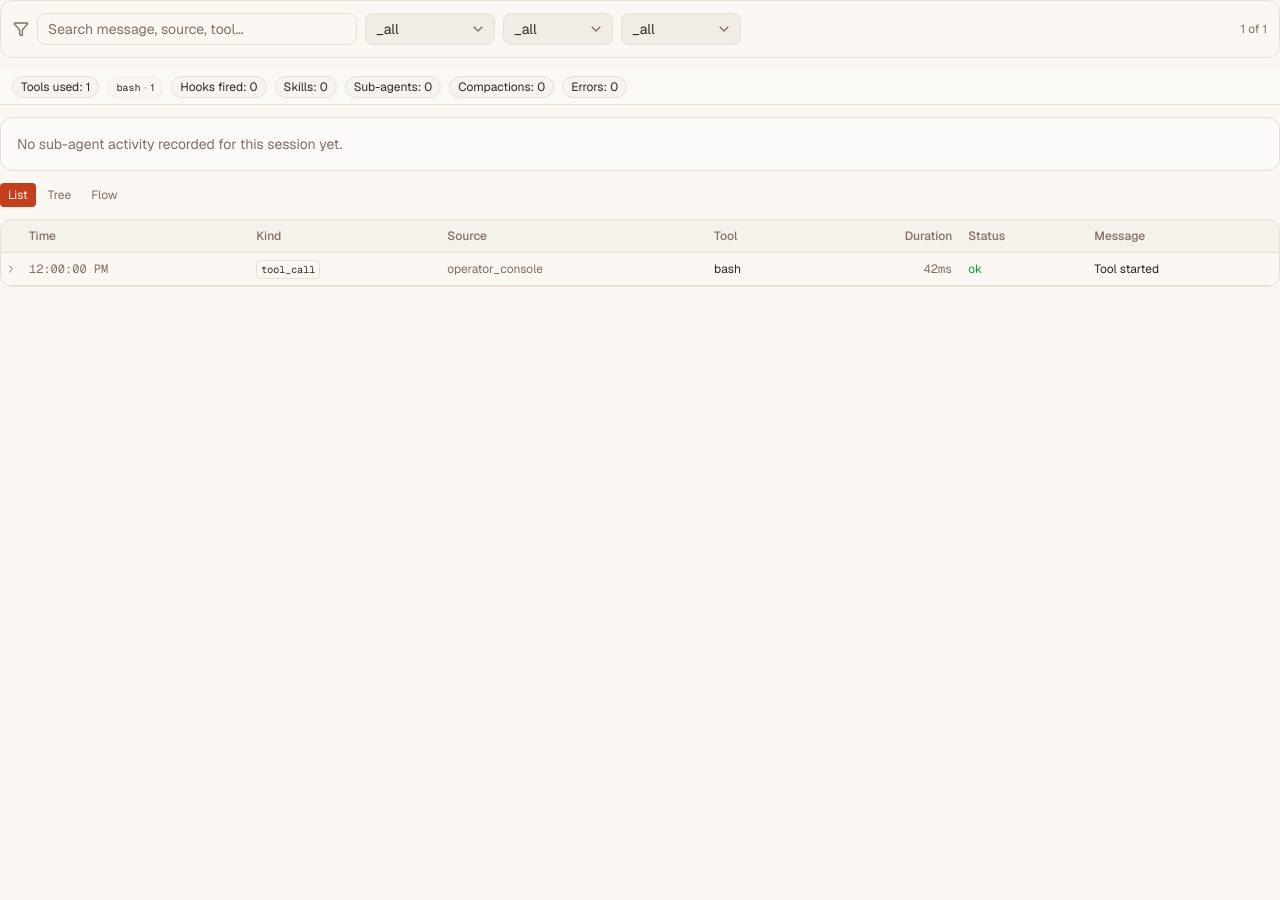
Test: DebugLogTab – detail expansion › clicking a row opens the detail drawer
The image size is (1280, 900).
Click the row named "debug event 0: tool_call from operator_console".
click(640, 269)  # box [1,252,1279,286]
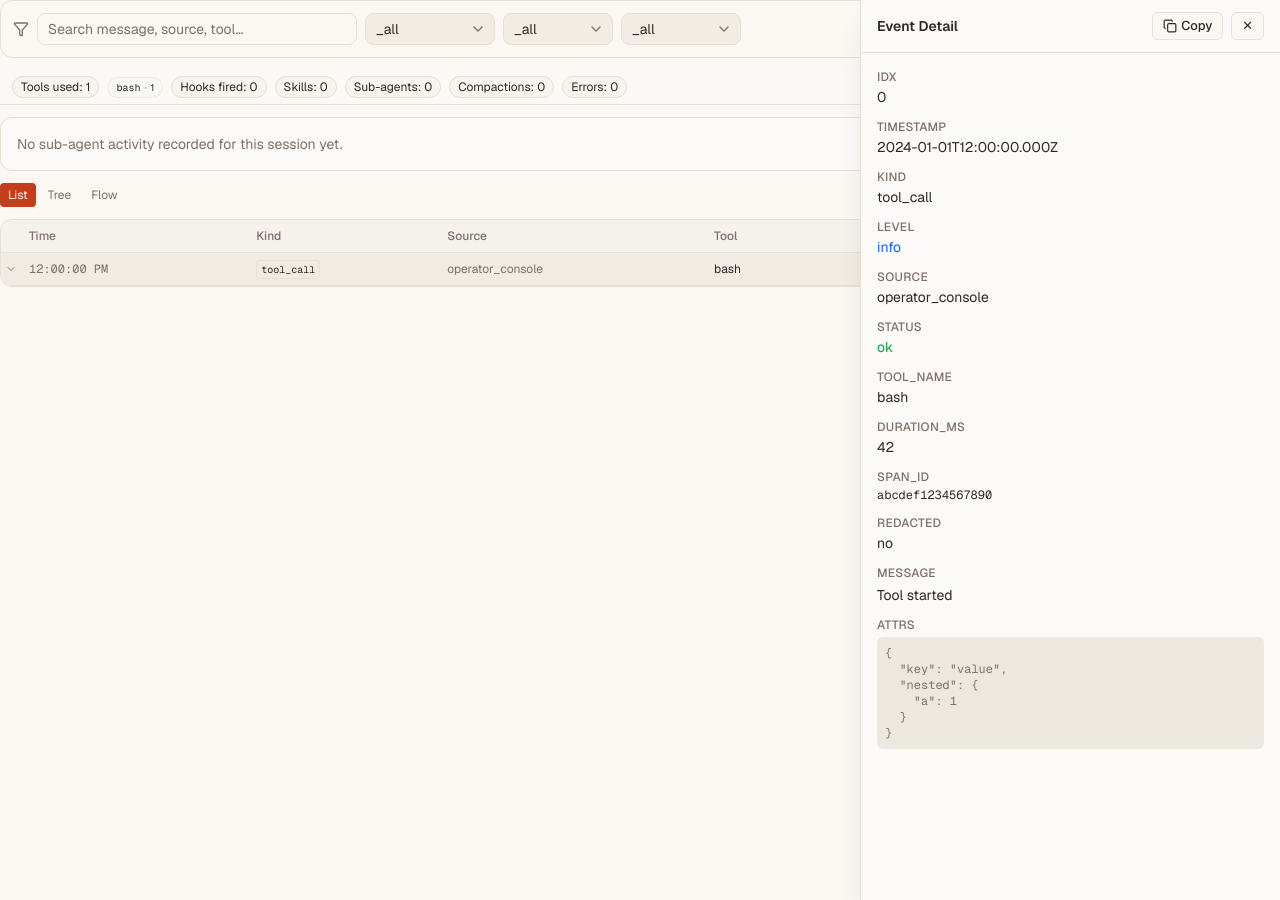
Now the dialog named "debug event detail" is shown, box [860,0,1279,899]
